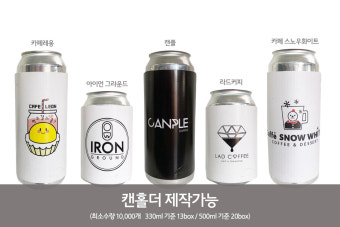paper: (267, 48, 327, 184), (15, 50, 69, 186), (142, 51, 196, 185), (78, 89, 138, 184), (204, 90, 259, 185)
